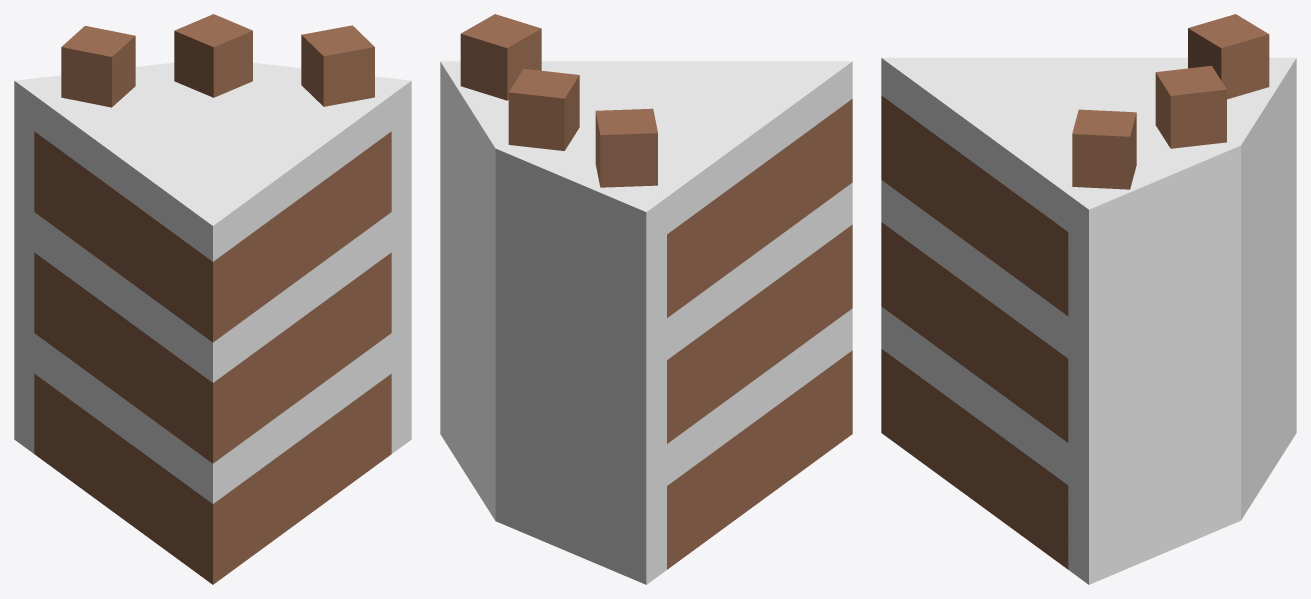
The model's file is CandylandCake_08.fbx.
The picture shows the model from 3 angles, left to right: view 1: azimuth 30°, elevation 25°; view 2: azimuth 150°, elevation 25°; view 3: azimuth 270°, elevation 25°; orthographic projection. The views are drawn at different scales.
Visible parts, largest first — view 1: CandylandCake_08; view 2: CandylandCake_08; view 3: CandylandCake_08.
Part boxes in pixels (box(x1,y1,x2,y2)): CandylandCake_08: box(14, 14, 411, 584); CandylandCake_08: box(440, 14, 852, 584); CandylandCake_08: box(881, 14, 1296, 584).
Bounding box in the file's own units: 0.5801 × 0.7619 × 0.6699.
